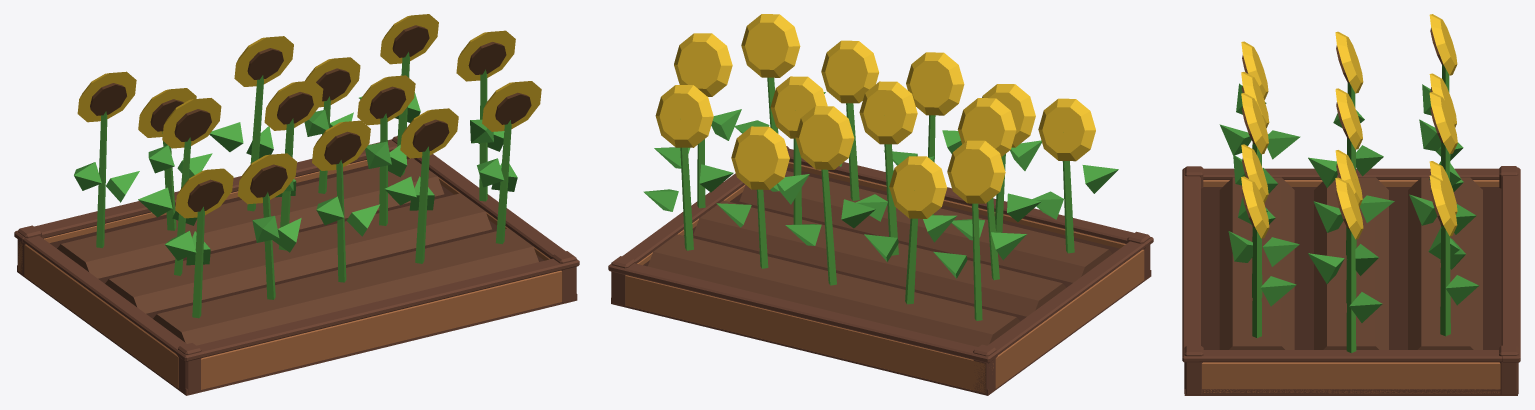
The model's file is CropBed_Sunflower.fbx.
3 views of the same model, side by side, from view 1: azimuth 30°, elevation 25°; view 2: azimuth 150°, elevation 25°; view 3: azimuth 270°, elevation 25° (orthographic). The views are drawn at different scales.
Parts seen in each view (by area): view 1: CropBed_Sunflower; view 2: CropBed_Sunflower; view 3: CropBed_Sunflower.
Boxes of the visible parts, x1,y1,x2,y2 form: CropBed_Sunflower: (14,14,579,395); CropBed_Sunflower: (608,14,1153,395); CropBed_Sunflower: (1182,14,1520,395).
Size of the model in its own units: 4.28 by 2.16 by 3.05.
